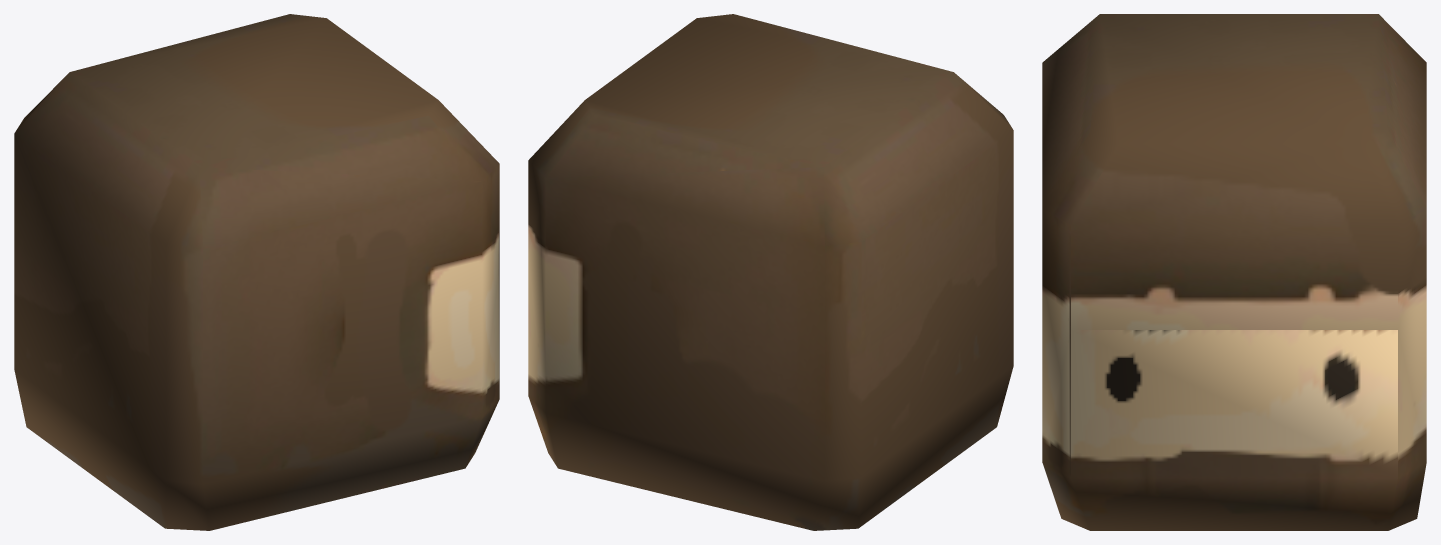
File: hunter2.glb
The picture shows the model from 3 angles, left to right: view 1: azimuth 30°, elevation 25°; view 2: azimuth 150°, elevation 25°; view 3: azimuth 270°, elevation 25°; orthographic projection. The views are drawn at different scales.
Visible parts, largest first — view 1: 1.010; view 2: 1.010; view 3: 1.010.
Part boxes in pixels (x1,y1,x2,y2): 1.010: (14,14,499,530); 1.010: (528,14,1013,530); 1.010: (1042,14,1426,530).
Size of the model in its own units: 0.0841 by 0.0841 by 0.0783.
Materials: 1 (1 with a texture image).
